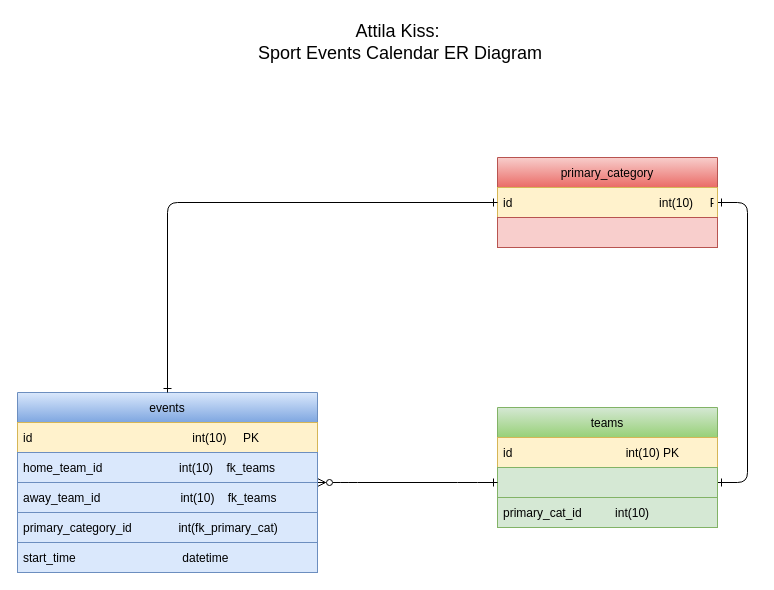
Some shapes in this 774 by 590 pixel diagram are drawn without their labels. Here are the shapes that lost their labels. From the top down, the centre of each, then its label:
At point (607, 232): "display_name varchar(80)".
At point (607, 482): "display_name varchar(50)".
